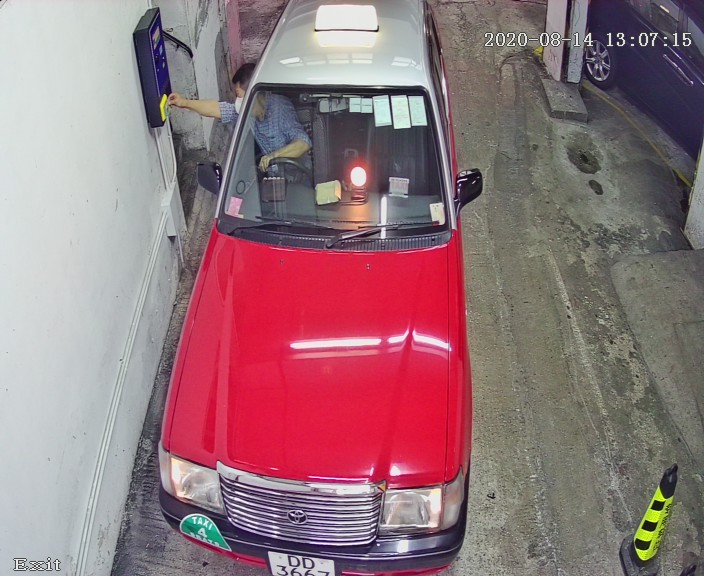taxi: (157, 11, 485, 574)
taxi_mark: (175, 513, 234, 556)
